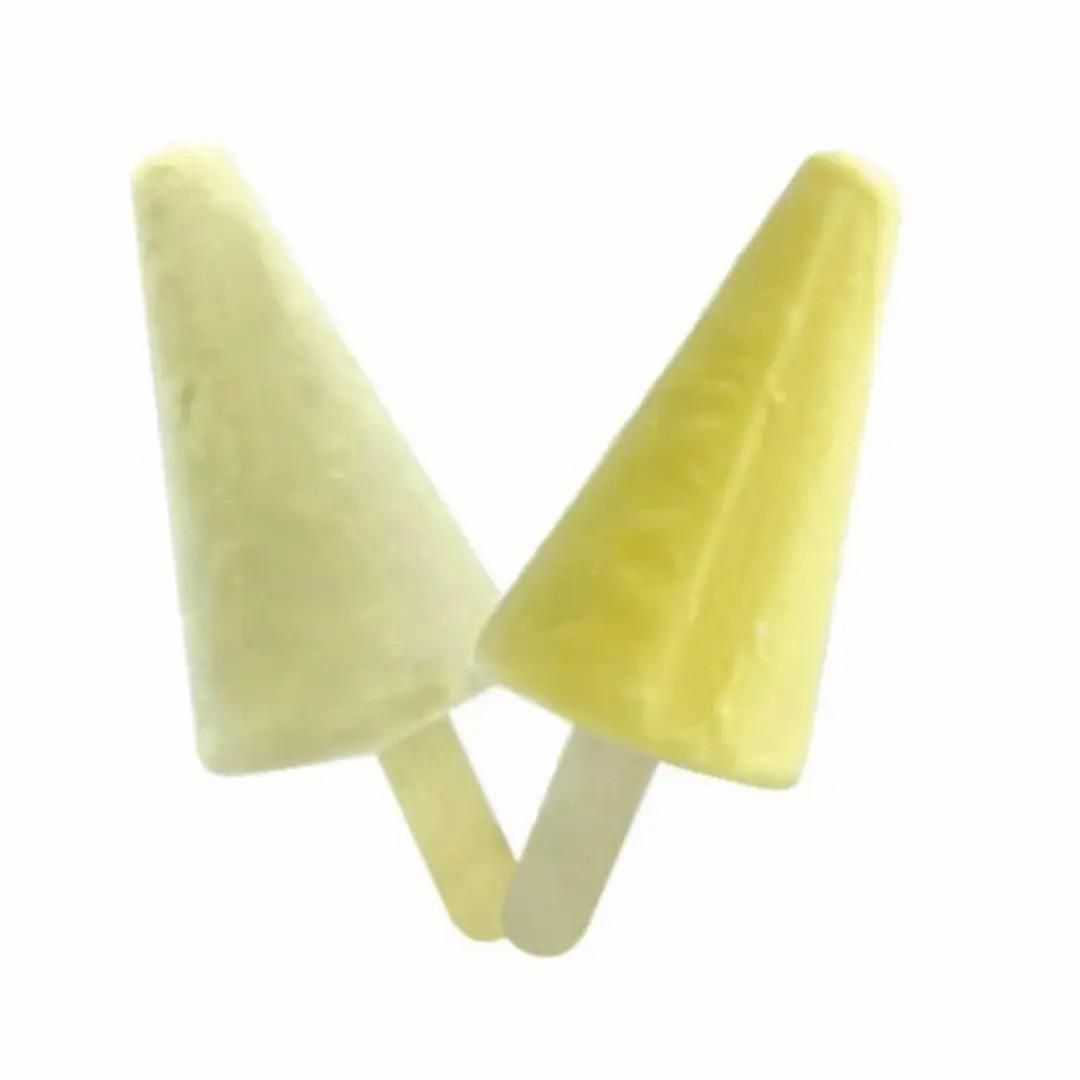Kulfi: (472, 142, 895, 797), (131, 130, 525, 772)
